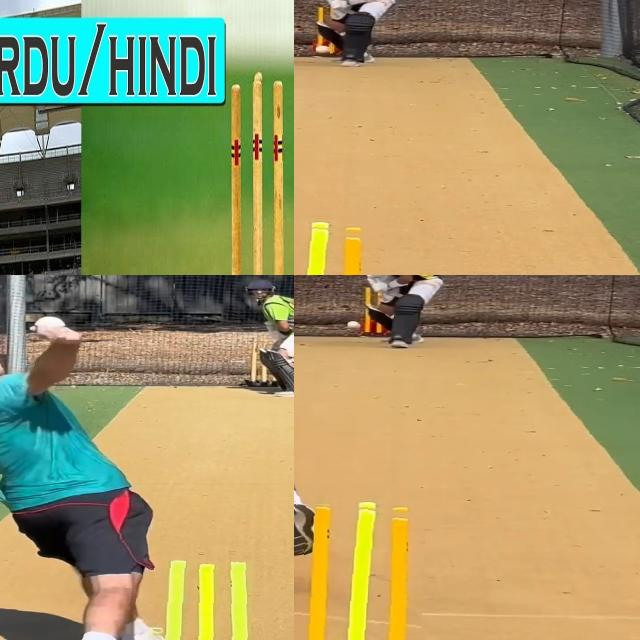Cricket ball: (314, 44, 334, 56), (345, 320, 362, 330)
Stumps: (294, 499, 426, 640), (229, 71, 289, 275), (148, 550, 274, 640)
